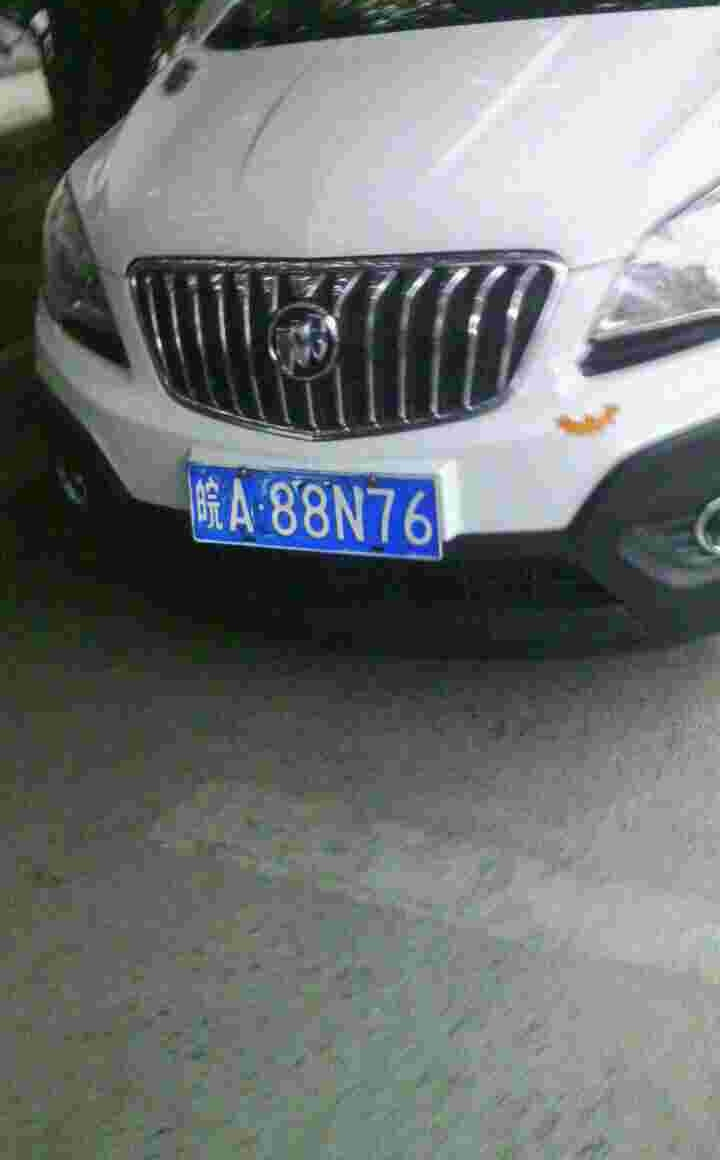license_plate: (176, 460, 443, 558)
